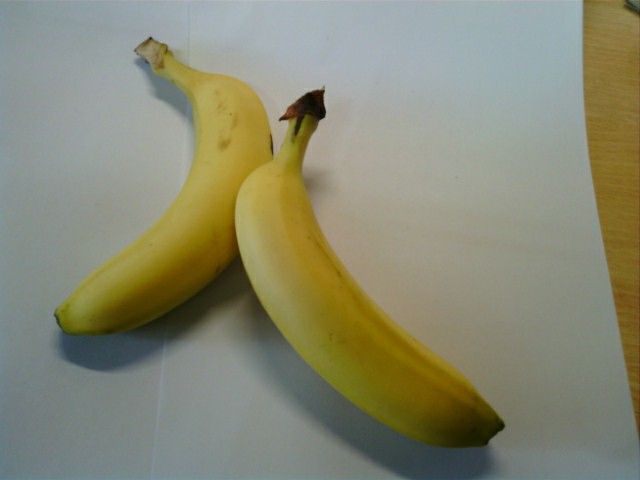fresh_banana: (237, 154, 504, 448), (55, 72, 274, 338)
